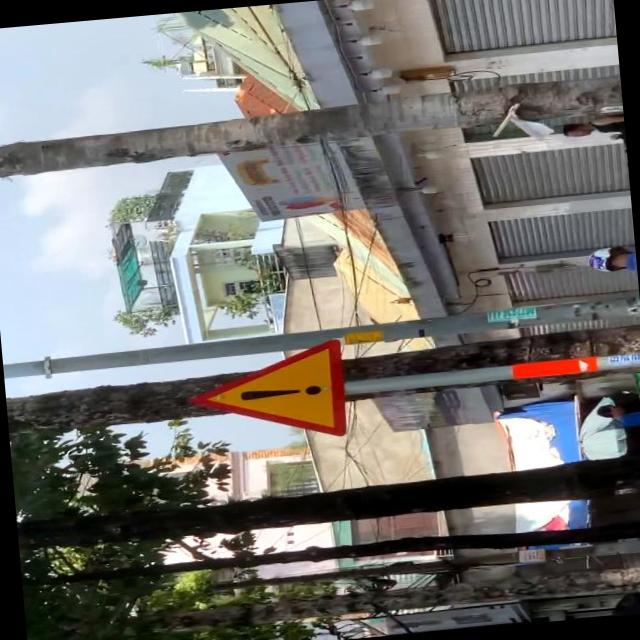W-233: (186, 340, 348, 450)
